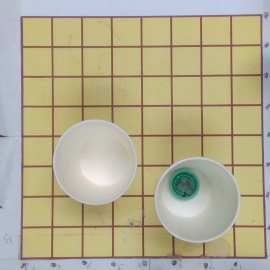cup: (53, 120, 139, 207)
cup_green: (154, 158, 241, 244)
